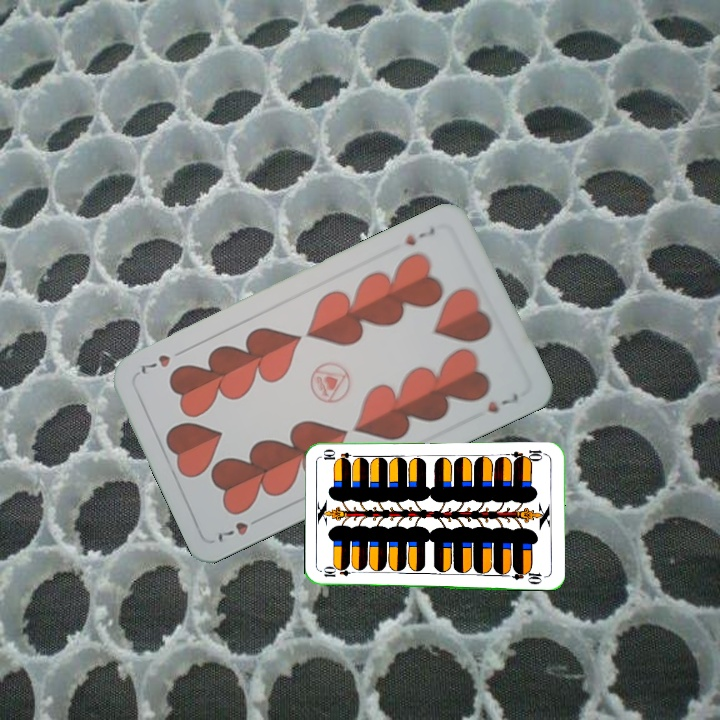E10: (508, 446, 549, 465), (319, 565, 360, 579)
H7: (213, 511, 267, 545), (401, 223, 438, 249)
